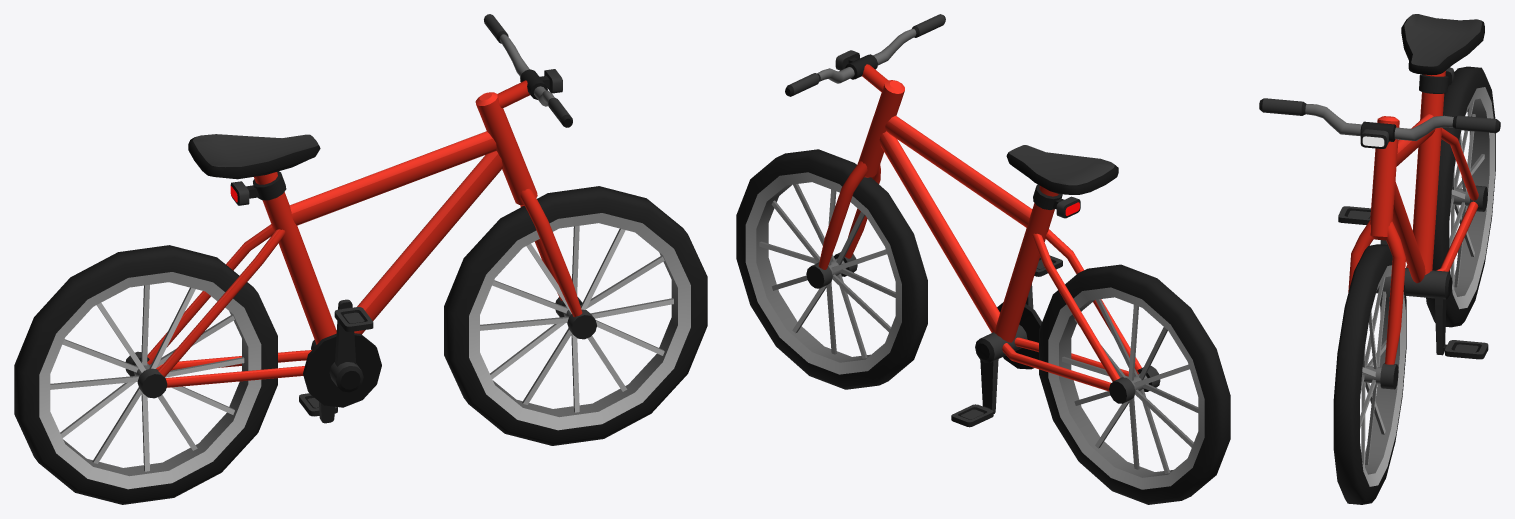
File: Bike_012.glb
3 renders of one model, left to right at view 1: azimuth 30°, elevation 25°; view 2: azimuth 150°, elevation 25°; view 3: azimuth 270°, elevation 25°, orthographic. The views are drawn at different scales.
Visible parts, largest first — view 1: wheel_1_Bike_012_Wheel_2L, wheel_0_Bike_012_Wheel_1R, Bike_012; view 2: wheel_1_Bike_012_Wheel_2L, wheel_0_Bike_012_Wheel_1R, Bike_012; view 3: Bike_012, wheel_0_Bike_012_Wheel_1R, wheel_1_Bike_012_Wheel_2L.
Boxes of the visible parts, <box> form: wheel_1_Bike_012_Wheel_2L: <box>14,224,311,504</box>; wheel_0_Bike_012_Wheel_1R: <box>444,186,707,445</box>; Bike_012: <box>188,14,572,423</box>; wheel_1_Bike_012_Wheel_2L: <box>1002,229,1230,504</box>; wheel_0_Bike_012_Wheel_1R: <box>736,149,927,389</box>; Bike_012: <box>785,14,1118,427</box>; Bike_012: <box>1259,14,1500,359</box>; wheel_0_Bike_012_Wheel_1R: <box>1333,220,1406,504</box>; wheel_1_Bike_012_Wheel_2L: <box>1406,66,1495,327</box>.
Size of the model in its own units: 1.91 by 1.13 by 0.6831.
2 materials, 2 textured.
